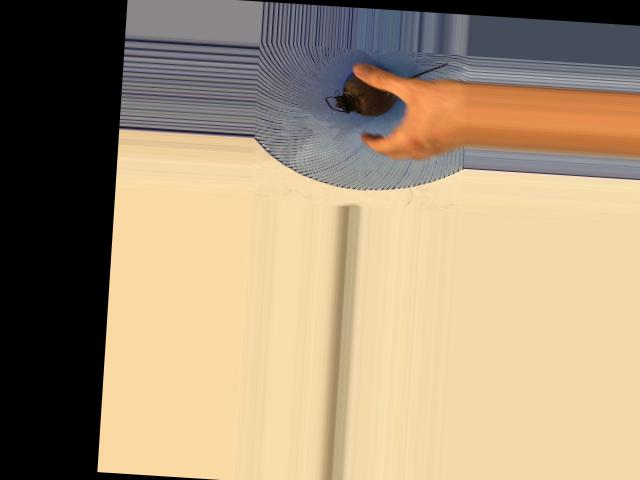beet: (324, 55, 447, 120)
